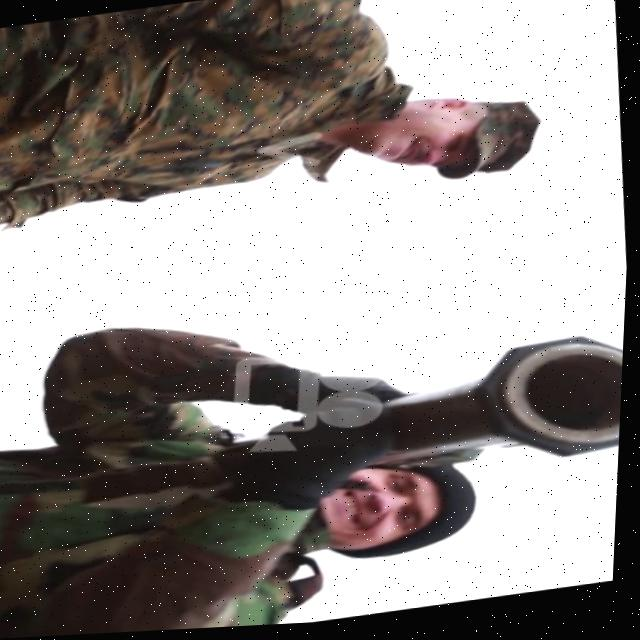rocket: (359, 315, 628, 499)
